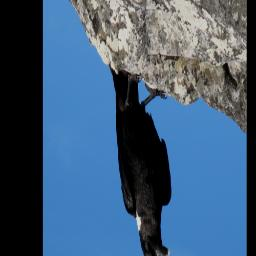Crow: (108, 62, 173, 256)
